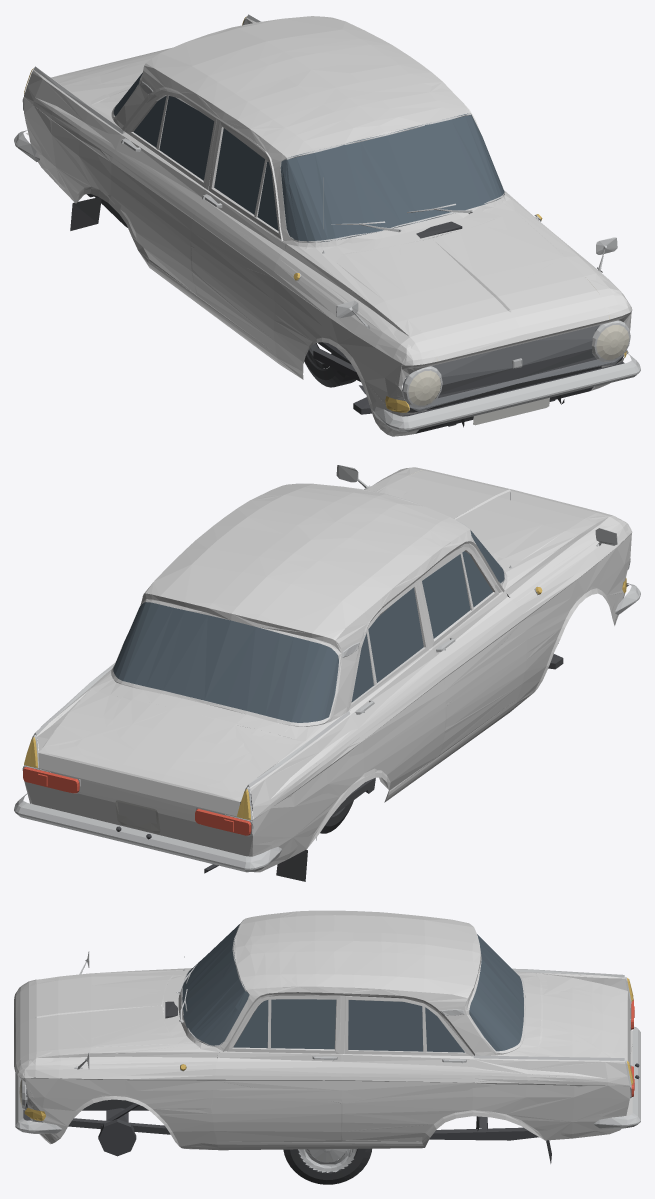
Rendered from moskvich.glb.
3 renders of one model, top to bottom at view 1: azimuth 30°, elevation 25°; view 2: azimuth 150°, elevation 25°; view 3: azimuth 270°, elevation 25°, orthographic. The views are drawn at different scales.
Visible parts, largest first — view 1: paint, detail, lo-paint, lo-detail, lights, wheel; view 2: paint, detail, lo-paint, lights, lo-lights, lo-detail; view 3: paint, detail, lo-paint, lo-detail, wheel, lo-wheel, lights.
Boxes of the visible parts, x1,y1,x2,y2 form: paint: (24, 16, 632, 436); detail: (14, 14, 640, 433); lo-paint: (24, 72, 631, 436); lo-detail: (128, 19, 614, 409); lights: (24, 16, 629, 412); wheel: (304, 343, 355, 387); paint: (24, 467, 632, 872); detail: (14, 465, 640, 881); lo-paint: (25, 467, 631, 871); lights: (23, 470, 626, 835); lo-lights: (23, 587, 626, 835); lo-detail: (26, 530, 504, 833); paint: (14, 910, 632, 1150); detail: (15, 918, 640, 1163); lo-paint: (20, 911, 629, 1150); lo-detail: (24, 925, 631, 1131); wheel: (283, 1148, 369, 1184); lo-wheel: (284, 1148, 371, 1184); lights: (14, 978, 634, 1120).
Bounding box in the file's own units: 1.74 × 1.77 × 4.2.
